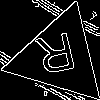R: (34, 32, 81, 84)
